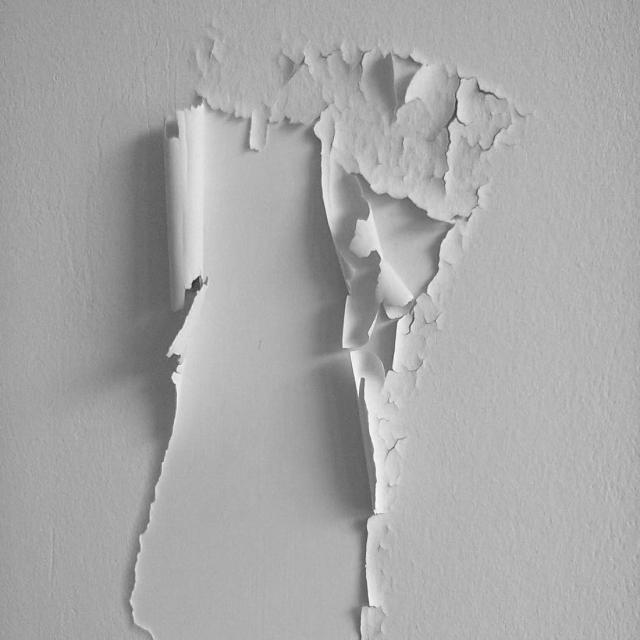peeling paint: (92, 10, 538, 640)
